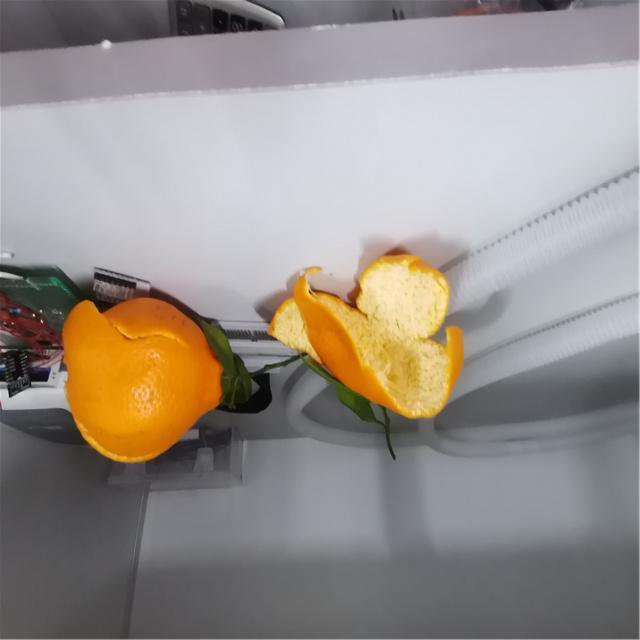orange peel: (266, 250, 464, 422), (60, 294, 225, 465)
